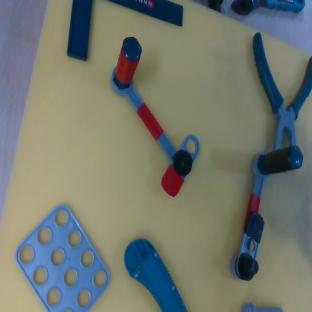non_pass: (210, 133, 307, 283)
pass: (88, 32, 217, 199)
